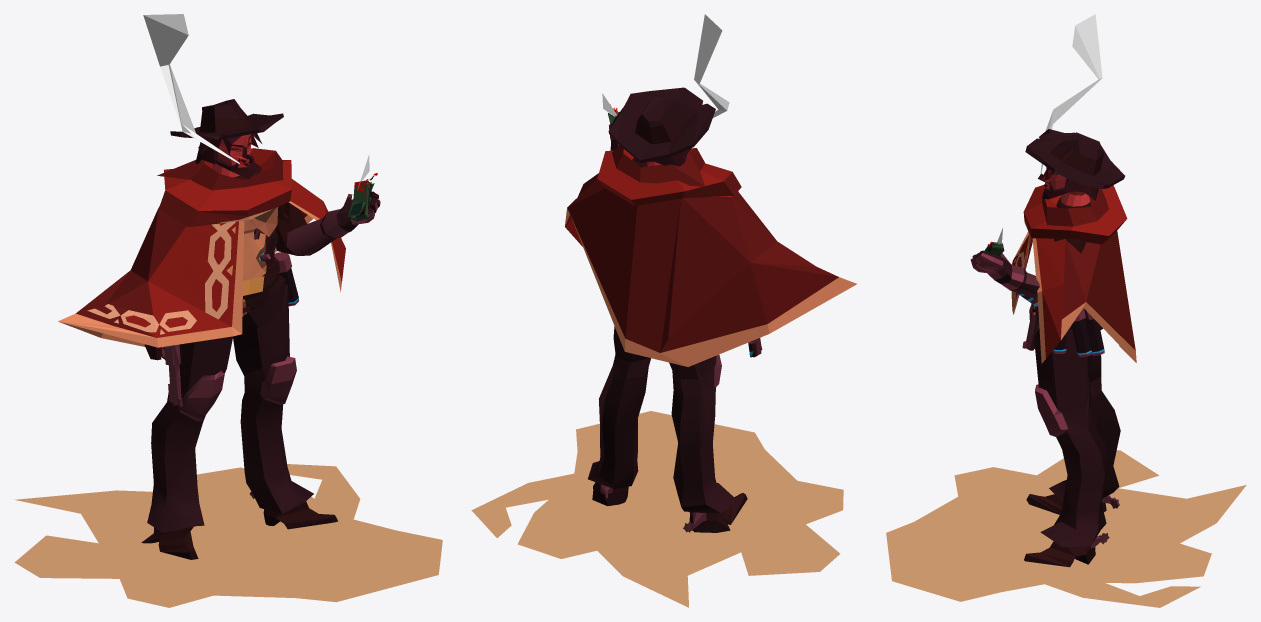
The model's file is McCree.obj.
3 renders of one model, left to right at view 1: azimuth 30°, elevation 25°; view 2: azimuth 150°, elevation 25°; view 3: azimuth 270°, elevation 25°, orthographic. The views are drawn at different scales.
Visible parts, largest first — view 1: Cylinder001_4, mccree_6, Cylinder001_0, Cylinder001_2, Cylinder001_1, mccree_4, mccree_12, Cylinder001_3, mccree_18, mccree_7, Cylinder_0, mccree_8 (+5 smaller); view 2: Cylinder001_4, Cylinder001_2, mccree_4, mccree_6, Cylinder_0, Cylinder001_1, Cylinder001_0, mccree_18, Cylinder_1, mccree_12, mccree_7; view 3: Cylinder001_4, mccree_6, Cylinder001_2, Cylinder001_0, mccree_4, Cylinder_0, mccree_18, Cylinder001_1, mccree_12, mccree_7, mccree_15, Cylinder_1 (+3 smaller).
Part boxes in pixels (x1=…): Cylinder001_4: x1=14, y1=464, x2=442, y2=607; mccree_6: x1=147, y1=191, x2=379, y2=532; Cylinder001_0: x1=125, y1=148, x2=345, y2=337; Cylinder001_2: x1=76, y1=151, x2=307, y2=337; Cylinder001_1: x1=58, y1=201, x2=341, y2=347; mccree_4: x1=141, y1=159, x2=337, y2=559; mccree_12: x1=178, y1=194, x2=353, y2=498; Cylinder001_3: x1=87, y1=209, x2=272, y2=334; mccree_18: x1=143, y1=14, x2=239, y2=164; mccree_7: x1=144, y1=142, x2=333, y2=552; Cylinder_0: x1=170, y1=99, x2=283, y2=139; mccree_8: x1=217, y1=155, x2=306, y2=268; Cylinder001_4: x1=471, y1=411, x2=843, y2=607; Cylinder001_2: x1=567, y1=145, x2=838, y2=352; mccree_4: x1=588, y1=341, x2=747, y2=532; mccree_6: x1=588, y1=139, x2=737, y2=513; Cylinder_0: x1=608, y1=87, x2=715, y2=162; Cylinder001_1: x1=565, y1=208, x2=856, y2=366; Cylinder001_0: x1=565, y1=148, x2=732, y2=246; mccree_18: x1=694, y1=14, x2=729, y2=117; Cylinder_1: x1=635, y1=108, x2=689, y2=144; mccree_12: x1=600, y1=143, x2=721, y2=532; mccree_7: x1=593, y1=482, x2=745, y2=524; Cylinder001_4: x1=886, y1=450, x2=1246, y2=607; mccree_6: x1=972, y1=250, x2=1105, y2=547; Cylinder001_2: x1=1023, y1=188, x2=1135, y2=350; Cylinder001_0: x1=1013, y1=185, x2=1127, y2=358; mccree_4: x1=1024, y1=173, x2=1120, y2=566; Cylinder_0: x1=1025, y1=129, x2=1124, y2=188; mccree_18: x1=1040, y1=14, x2=1102, y2=174; Cylinder001_1: x1=1011, y1=231, x2=1136, y2=363; mccree_12: x1=997, y1=253, x2=1119, y2=548; mccree_7: x1=1027, y1=172, x2=1090, y2=567; mccree_15: x1=970, y1=253, x2=1067, y2=429; Cylinder_1: x1=1049, y1=145, x2=1104, y2=176.
Bounding box in the file's own units: 1.99 × 2.97 × 1.96.
